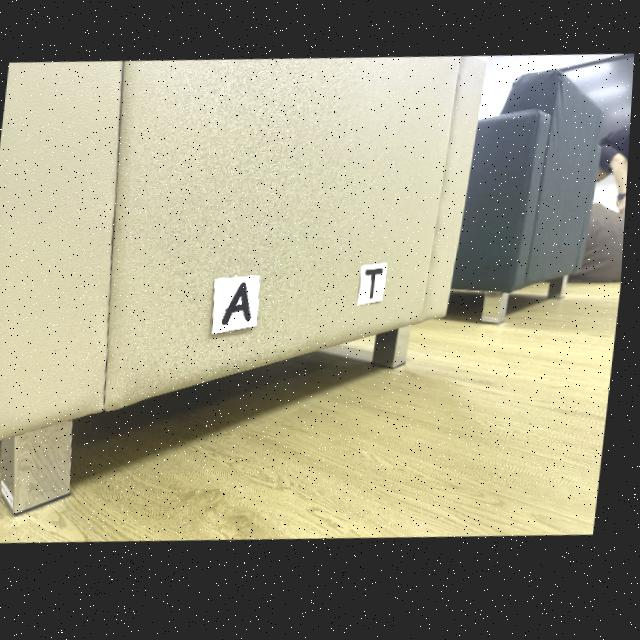A: (226, 286, 255, 328)
T: (368, 275, 388, 304)
